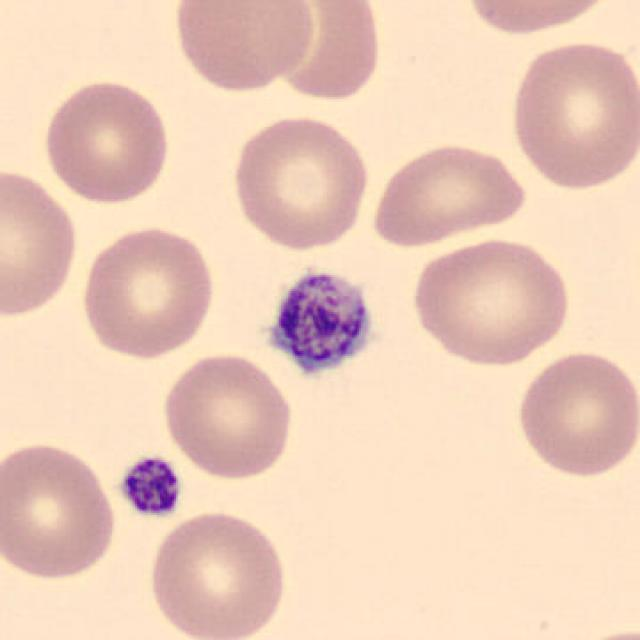Platelets: (260, 264, 378, 382), (115, 453, 185, 522)
RBC: (407, 232, 574, 368), (505, 35, 638, 194), (228, 111, 372, 254), (76, 220, 218, 362), (144, 506, 292, 640), (158, 347, 297, 483), (366, 137, 532, 250), (38, 74, 174, 206), (0, 436, 121, 584), (512, 348, 636, 482), (169, 0, 318, 95), (0, 162, 82, 321), (265, 0, 386, 102), (459, 0, 622, 39), (560, 622, 638, 640)
